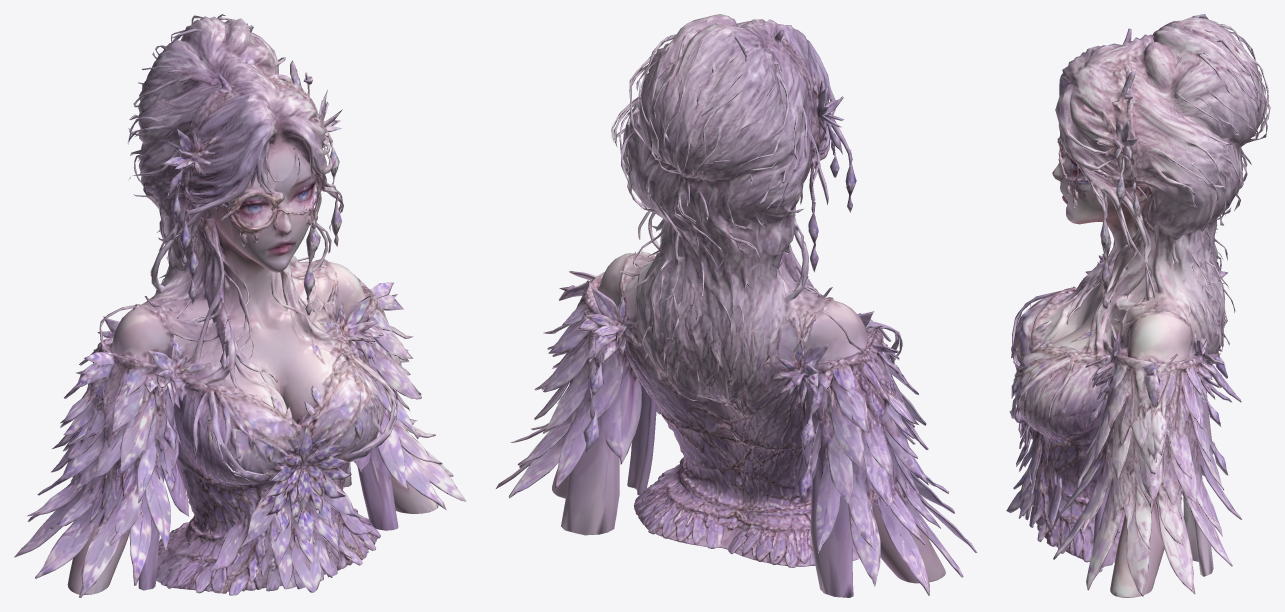
Rendered from ametista_3d.glb.
3 views of the same model, side by side, from view 1: azimuth 30°, elevation 25°; view 2: azimuth 150°, elevation 25°; view 3: azimuth 270°, elevation 25° (orthographic). The views are drawn at different scales.
Parts seen in each view (by area): view 1: Ametista_modelo; view 2: Ametista_modelo; view 3: Ametista_modelo.
Part boxes in pixels (x1,y1,x2,y2): Ametista_modelo: (14,14,466,597); Ametista_modelo: (496,14,977,597); Ametista_modelo: (1006,14,1270,597).
Bounding box in the file's own units: 0.8551 × 0.9803 × 0.4801.
1 material, 1 textured.
